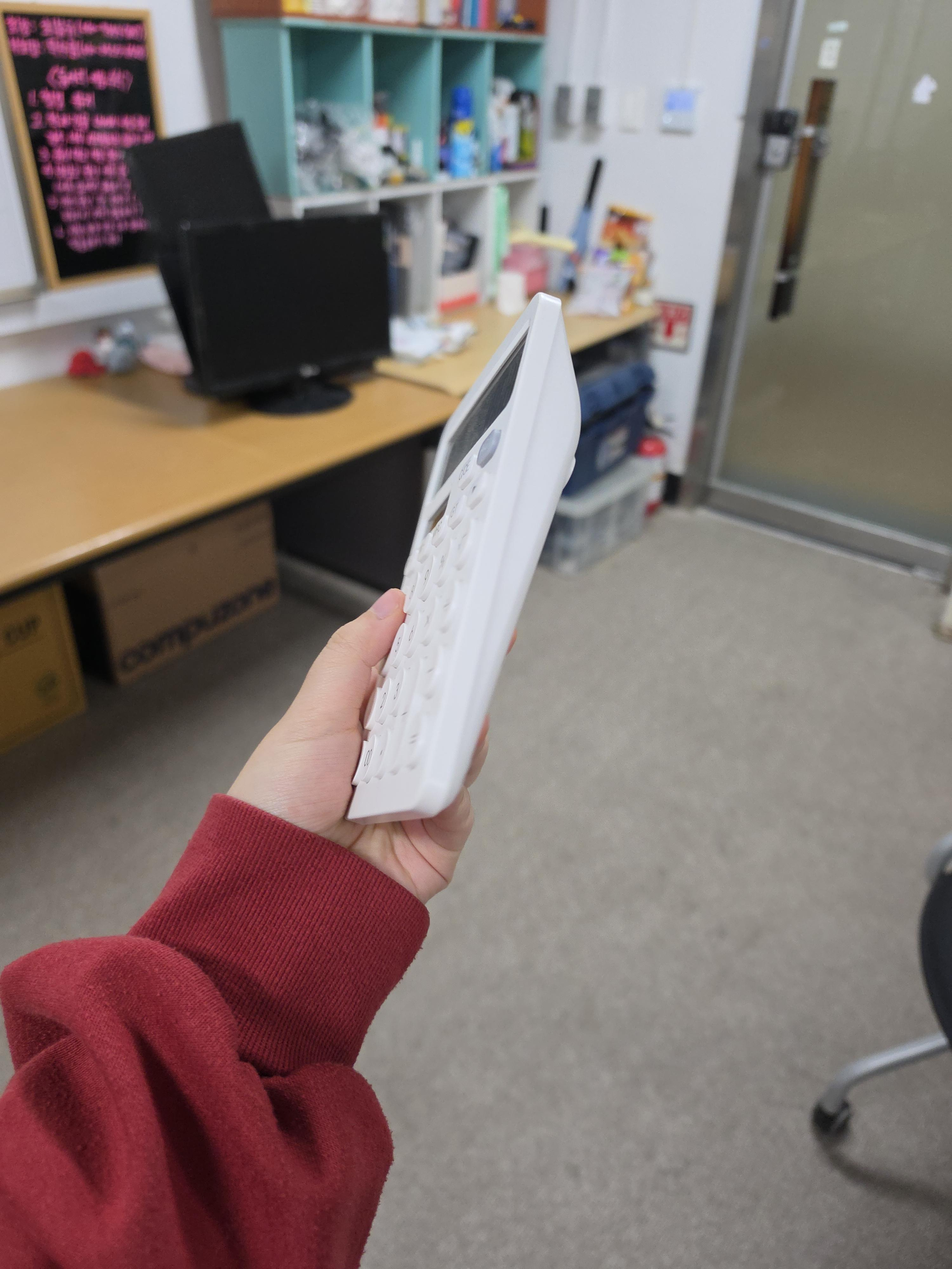calculator: (347, 293, 580, 824)
